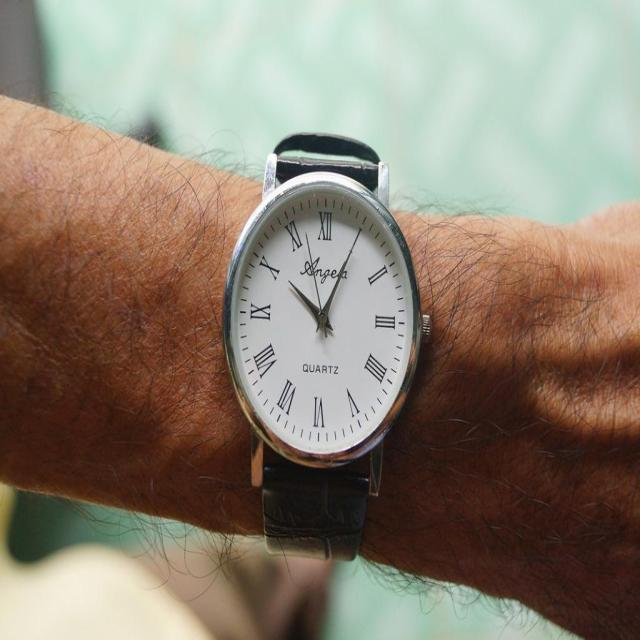Wrist watch: (223, 134, 433, 562)
